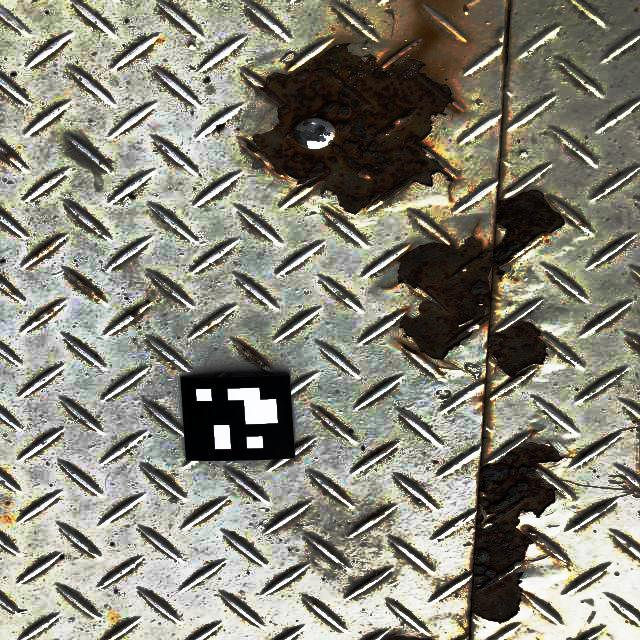Corrosion: (251, 43, 454, 213), (396, 190, 565, 359), (472, 443, 562, 623), (489, 322, 547, 378), (240, 346, 268, 369), (381, 632, 437, 640), (74, 276, 96, 295), (243, 142, 259, 154), (1, 150, 13, 159), (129, 310, 140, 319)
